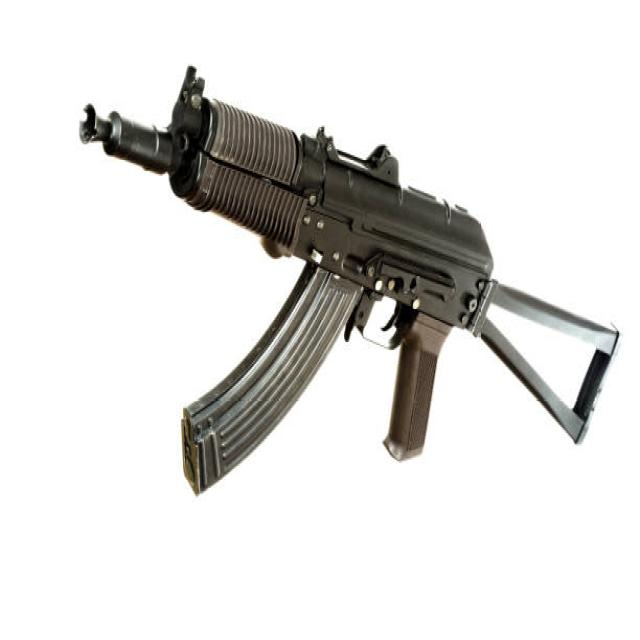rifle: (68, 61, 620, 505)
